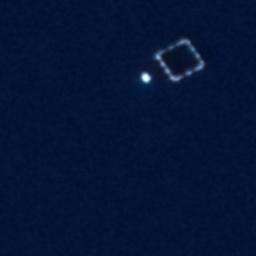square_solid: (149, 34, 206, 86)
